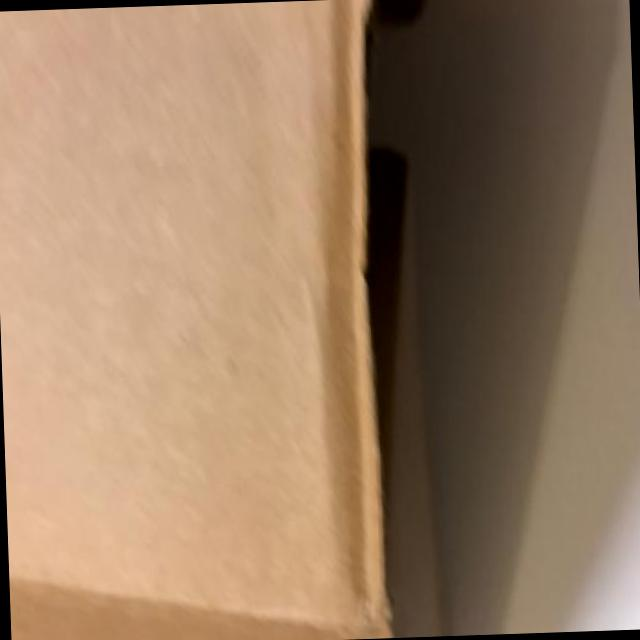cardboard: (0, 0, 387, 639)
